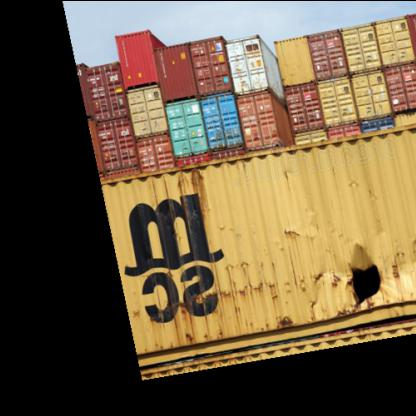Damage: (148, 260, 342, 300), (334, 245, 388, 303)
